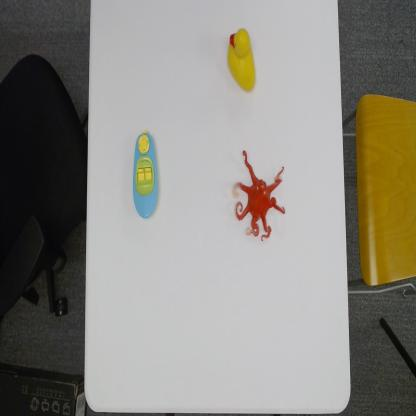Boat: (132, 128, 160, 220)
Duck: (226, 26, 257, 93)
Octopus: (232, 148, 287, 243)
